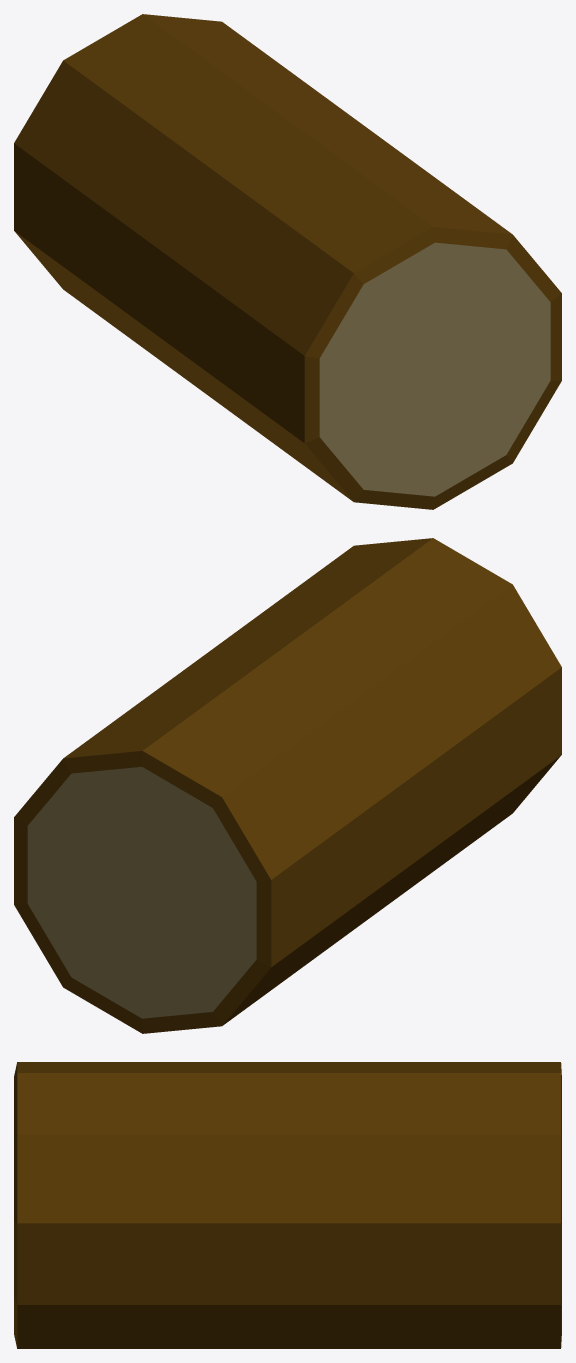
Rendered from brealk1.fbx.
The picture shows the model from 3 angles, top to bottom: view 1: azimuth 30°, elevation 25°; view 2: azimuth 150°, elevation 25°; view 3: azimuth 270°, elevation 25°; orthographic projection. The views are drawn at different scales.
Parts seen in each view (by area): view 1: Cylinder; view 2: Cylinder; view 3: Cylinder.
Part boxes in pixels (x1,y1,x2,y2): Cylinder: [14, 14, 561, 509]; Cylinder: [14, 538, 561, 1033]; Cylinder: [14, 1062, 561, 1348].
Size of the model in its own units: 190 by 200 by 375.
